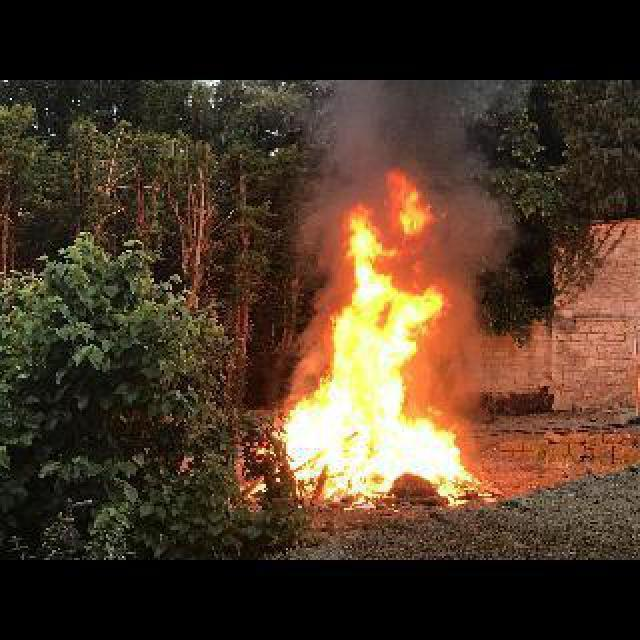smoke: (304, 80, 528, 184)
zfire: (276, 172, 482, 510)
